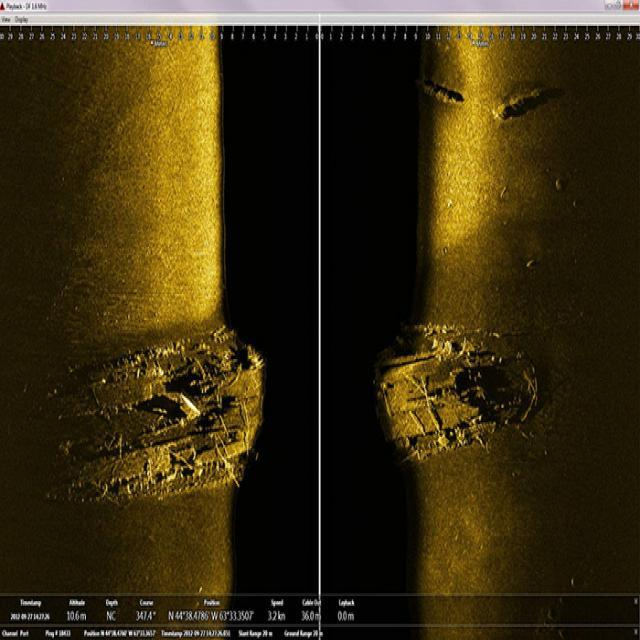shipwreck: (71, 322, 266, 497), (370, 320, 535, 458)
